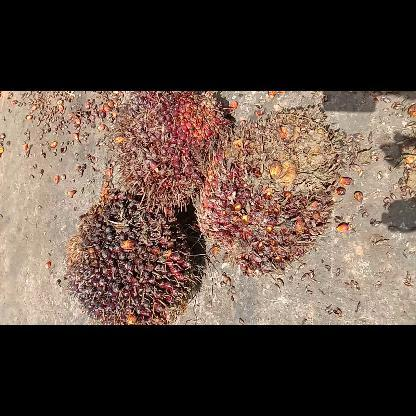Kurang masak: (198, 106, 340, 272)
TBS masak: (66, 196, 206, 324), (115, 90, 232, 214)
